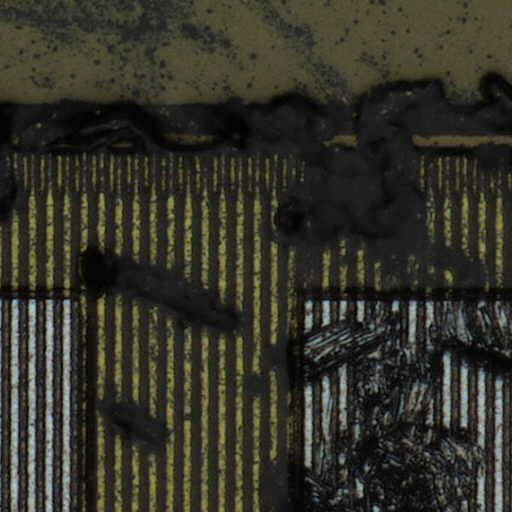SCRATCH: (1, 70, 512, 512)
